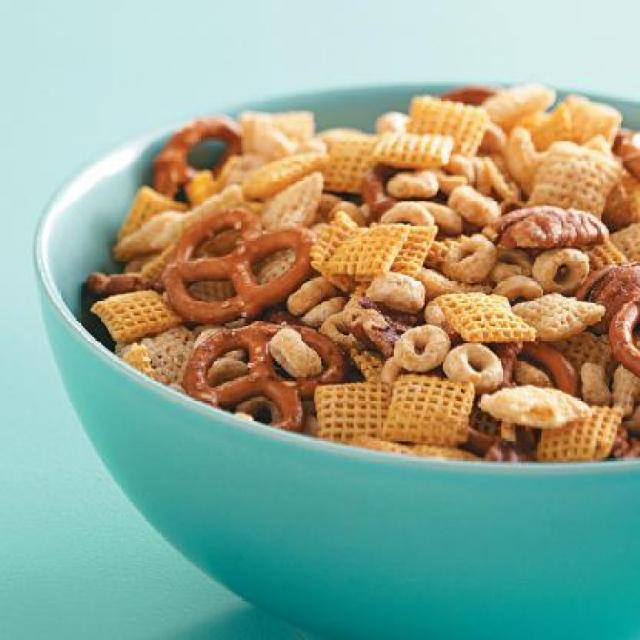Salatini packaged: (98, 82, 640, 468)
